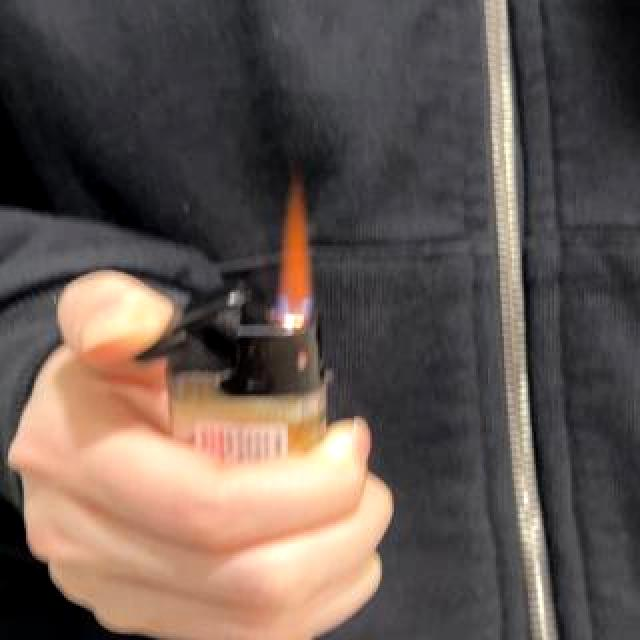fire: (275, 183, 315, 317)
